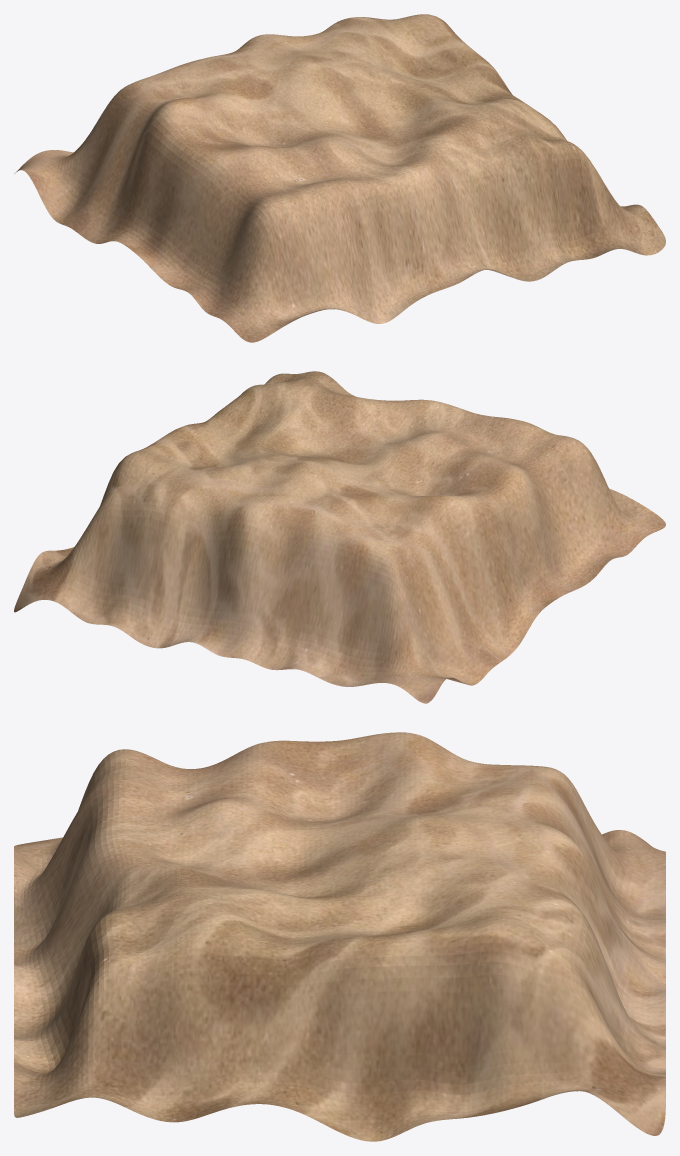
The model's file is arena4.fbx.
The picture shows the model from 3 angles, top to bottom: view 1: azimuth 30°, elevation 25°; view 2: azimuth 150°, elevation 25°; view 3: azimuth 270°, elevation 25°; orthographic projection. The views are drawn at different scales.
Visible parts, largest first — view 1: Plano.004; view 2: Plano.004; view 3: Plano.004.
Boxes of the visible parts, bbox=[...] form: Plano.004: bbox=[14, 14, 665, 342]; Plano.004: bbox=[14, 371, 665, 703]; Plano.004: bbox=[14, 732, 665, 1141].
Size of the model in its own units: 200 by 62.36 by 200.
Materials: 1 (1 with a texture image).
